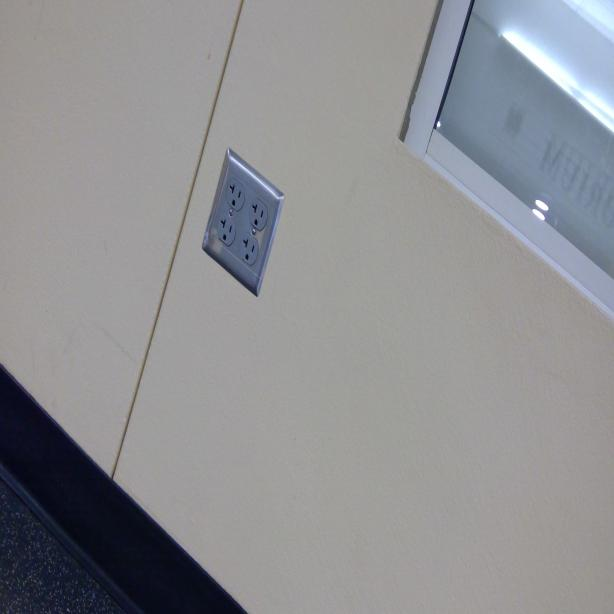typeb: (218, 212, 238, 246), (250, 195, 268, 232), (240, 234, 258, 268), (226, 180, 246, 210)
